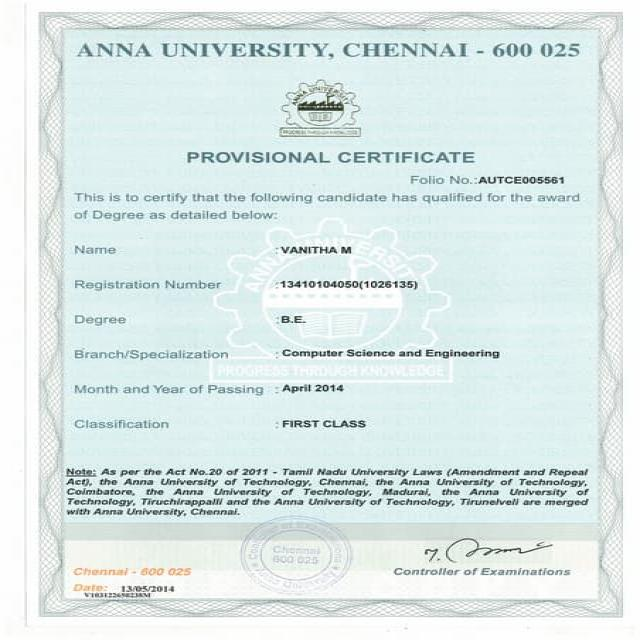degree: (279, 341, 506, 366)
signature: (382, 532, 585, 582)
stamp: (273, 77, 372, 143)
